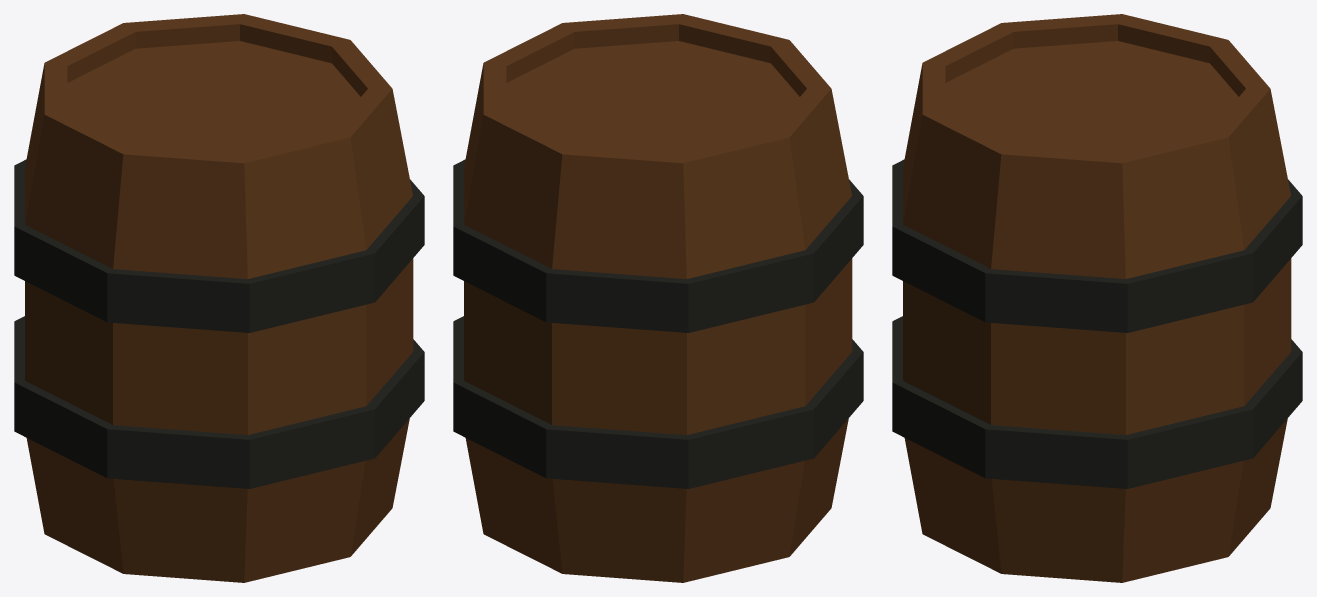
File: Dark Brown Two Ringed Barrel.fbx
3 renders of one model, left to right at view 1: azimuth 30°, elevation 25°; view 2: azimuth 150°, elevation 25°; view 3: azimuth 270°, elevation 25°, orthographic.
Parts seen in each view (by area): view 1: Dark Brown Two Ringed Barrel; view 2: Dark Brown Two Ringed Barrel; view 3: Dark Brown Two Ringed Barrel.
Boxes of the visible parts, left/top/right/bottom form: Dark Brown Two Ringed Barrel: left=14, top=14, right=424, bottom=582; Dark Brown Two Ringed Barrel: left=453, top=14, right=863, bottom=582; Dark Brown Two Ringed Barrel: left=892, top=14, right=1302, bottom=582.
Bounding box in the file's own units: 180 × 200 × 177.
